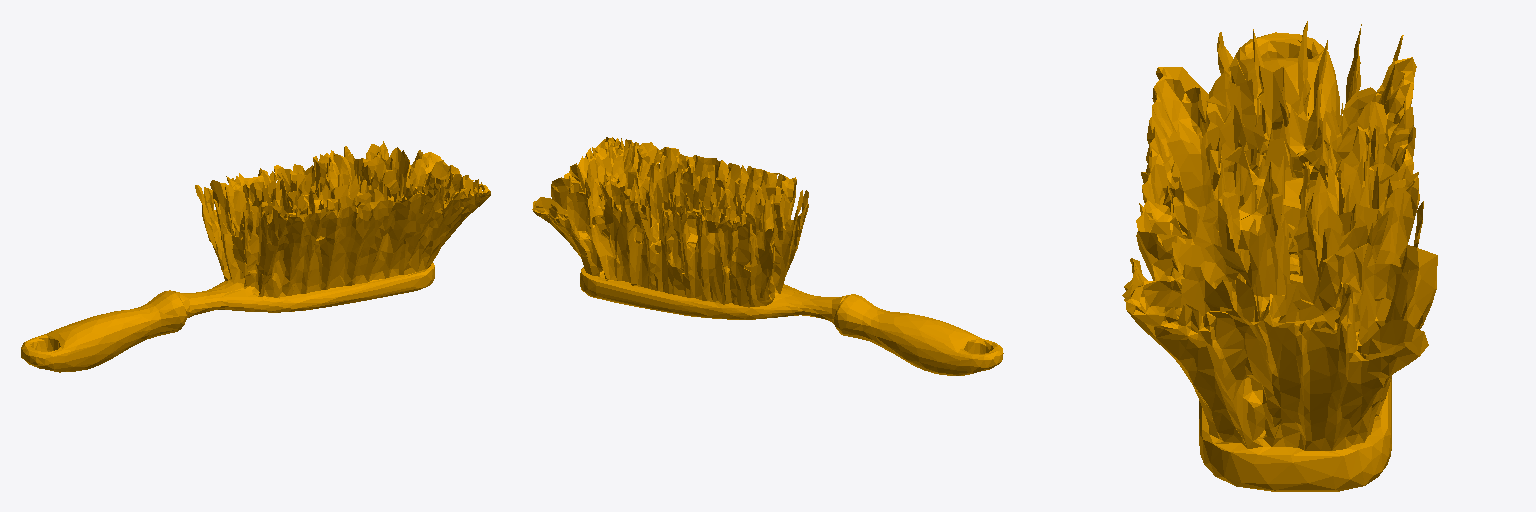
robot.urdf — red_brush:
<?xml version="1.0"?>
<robot name="red_brush">
  <link name="red_brush">
    <visual>
      <origin xyz="0 0 0" rpy="0 0 0"/>
      <geometry>
        <mesh filename="red_brush.obj" scale="1 1 1"/>
      </geometry>
    </visual>
    <collision>
      <origin xyz="0 0 0" rpy="0 0 0"/>
      <geometry>
        <mesh filename="red_brush.obj" scale="1 1 1"/>
      </geometry>
    </collision>
    <inertial>
      <density value="400.0"/>
    </inertial>
  </link>
</robot>

--- Facts derived from the render (not from the file) ---
3 views of the same robot in one strip: view 1: azimuth 30°, elevation 25°; view 2: azimuth 150°, elevation 25°; view 3: azimuth 270°, elevation 25° (orthographic).
Robot: red_brush — 1 links, 0 joints (none); root link red_brush; default pose: all joints at 0.
Visible links, largest first — view 1: red_brush; view 2: red_brush; view 3: red_brush.
Boxes of the visible links, x1=… form: red_brush: x1=21, y1=141, x2=490, y2=372; red_brush: x1=532, y1=137, x2=1003, y2=375; red_brush: x1=1122, y1=21, x2=1437, y2=491.
Bounding box of the posed robot: 0.3191 × 0.095 × 0.0926 m (x, y, z).
Meshes: 1 distinct files referenced, 1 mesh visuals loaded (1 OBJ).
